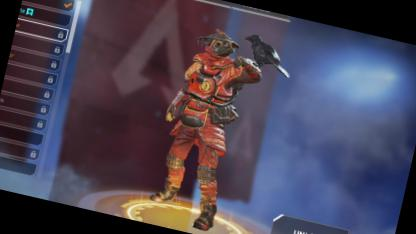Target: (155, 24, 252, 208)
